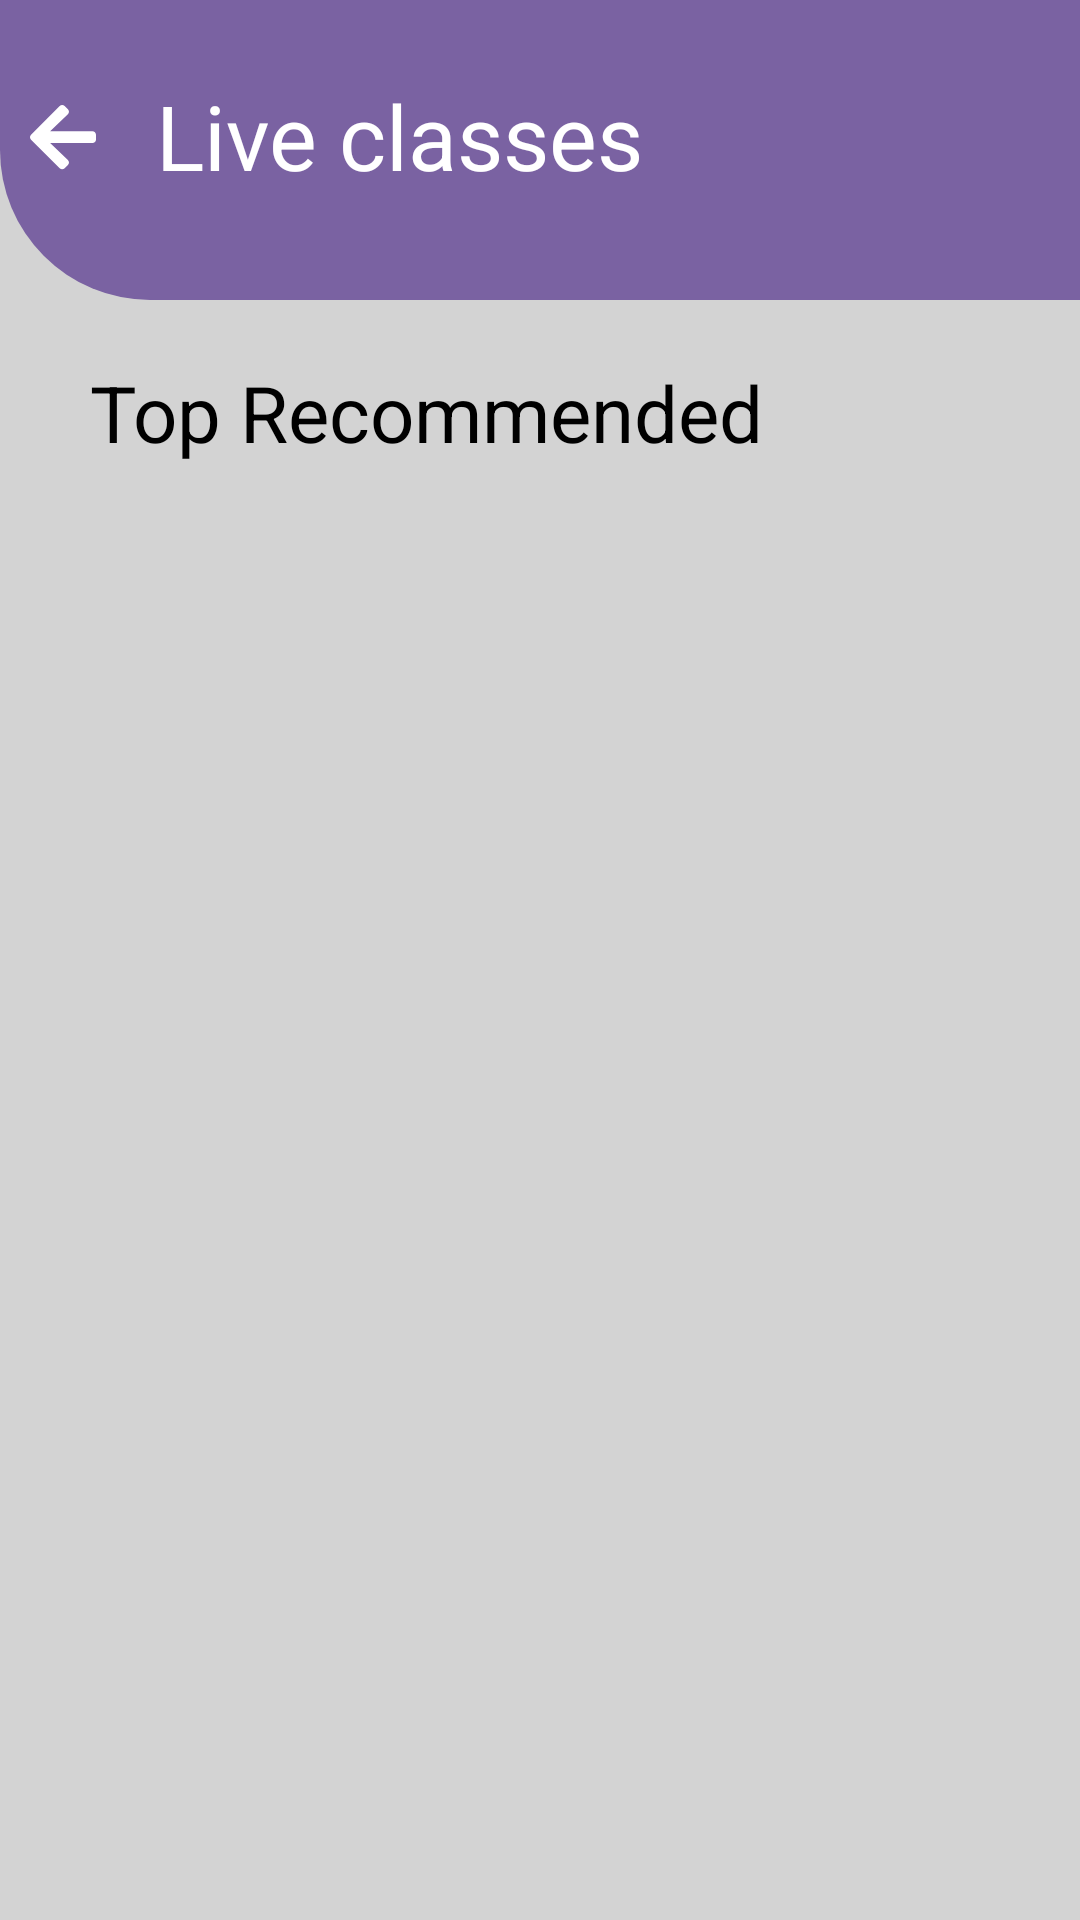

Screen size 1080 × 1920. Icon name, then its center in pixels as point (x, y):
backarrow: point (63, 137)
